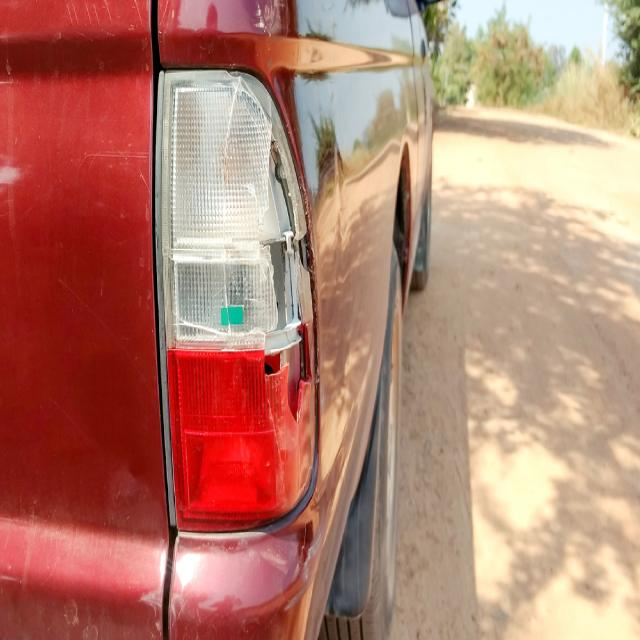Phare abime: (217, 73, 318, 414)
